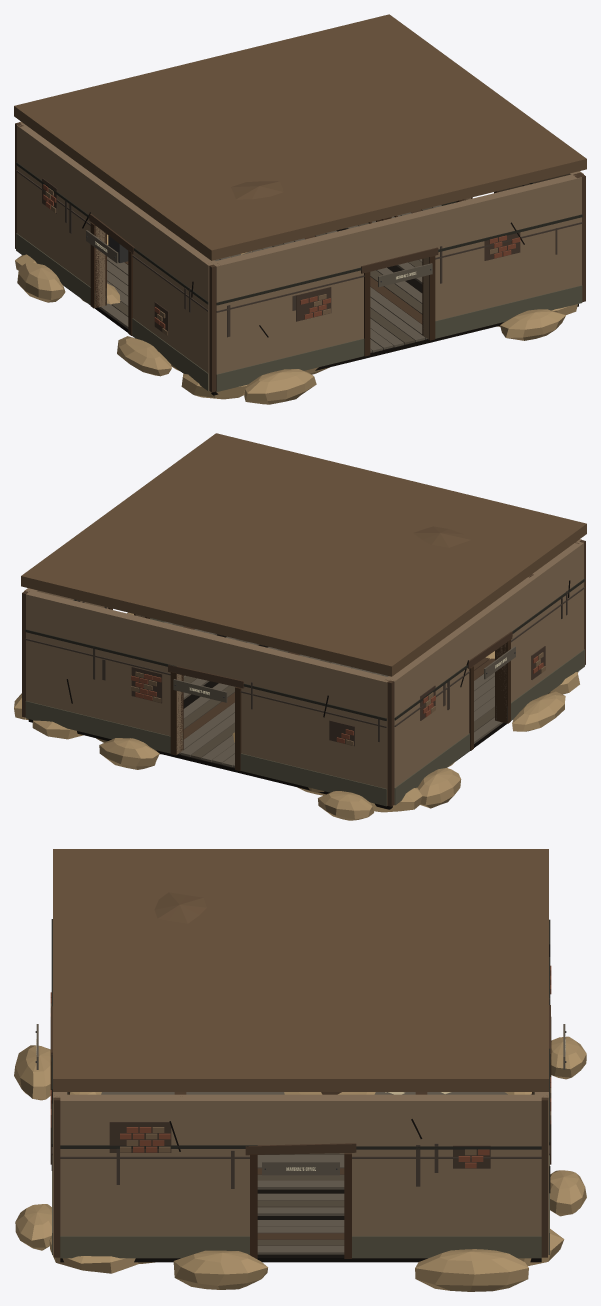
File: TownBldg_marshal.glb
The picture shows the model from 3 angles, top to bottom: view 1: azimuth 30°, elevation 25°; view 2: azimuth 150°, elevation 25°; view 3: azimuth 270°, elevation 25°; orthographic projection. The views are drawn at different scales.
Visible parts, largest first — view 1: TownBldg_marshal.001; view 2: TownBldg_marshal.001; view 3: TownBldg_marshal.001.
Part boxes in pixels (x1,y1,x2,y2): TownBldg_marshal.001: [14, 14, 586, 404]; TownBldg_marshal.001: [14, 433, 586, 820]; TownBldg_marshal.001: [14, 849, 586, 1291].
Bounding box in the file's own units: 12.91 × 4.79 × 11.9.
